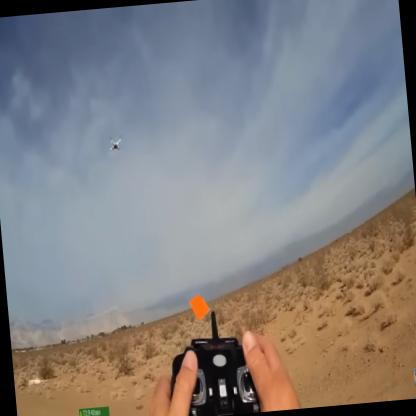drone: (106, 133, 128, 157)
